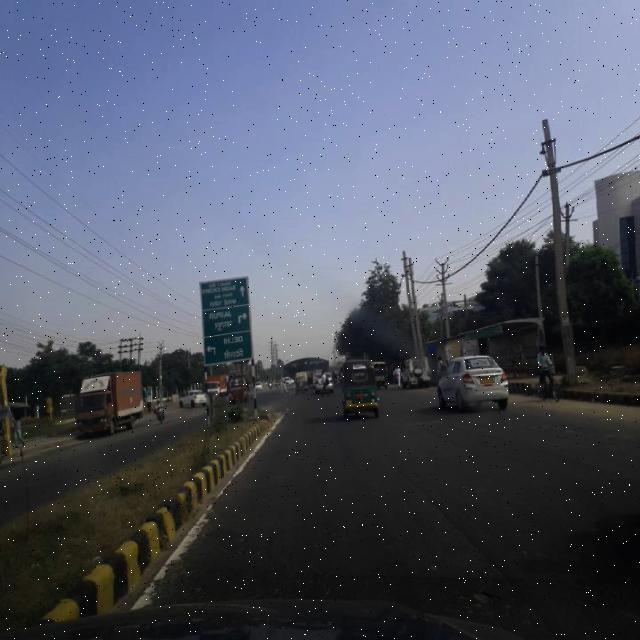D40: (462, 584, 508, 608)
D44: (89, 455, 252, 623)
